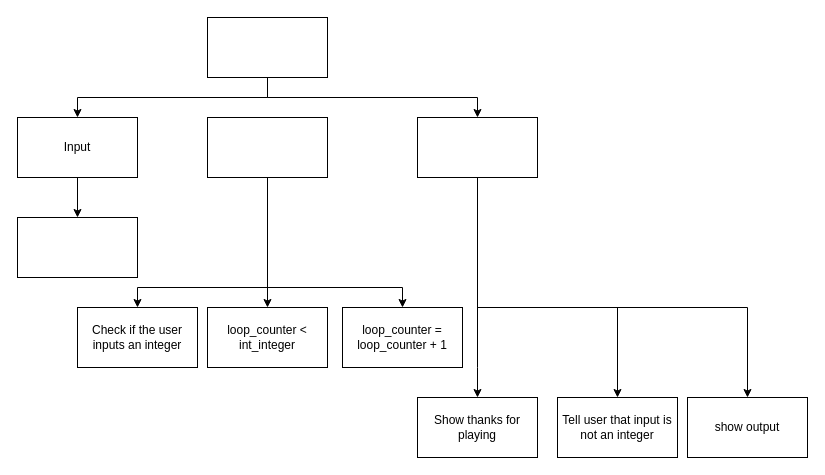
Some shapes in this 825 by 475 pixel diagram are drawn without their labels. The shapes that lost their labels are listed below. From the top down, each one's centre as x and y in pixels, then its label:
(x=267, y=47): Number adding program
(x=267, y=147): Process
(x=477, y=147): Output
(x=77, y=247): Get number from user
